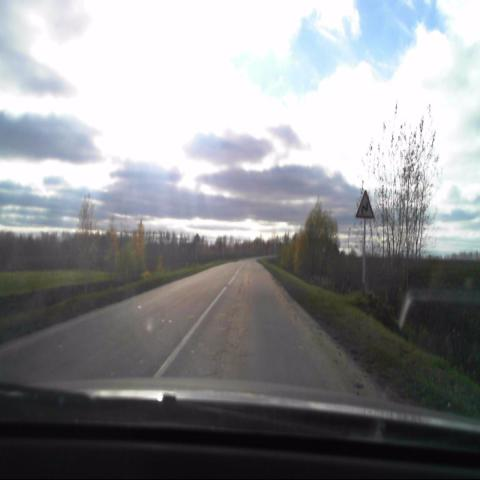1_12: (354, 189, 374, 219)
